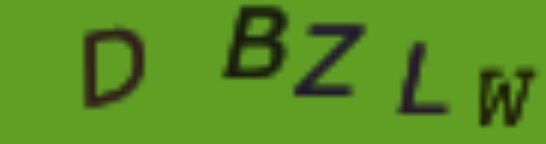B: (218, 4, 293, 83)
D: (77, 25, 146, 113)
L: (391, 36, 455, 118)
W: (474, 63, 539, 130)
Z: (290, 18, 371, 100)
